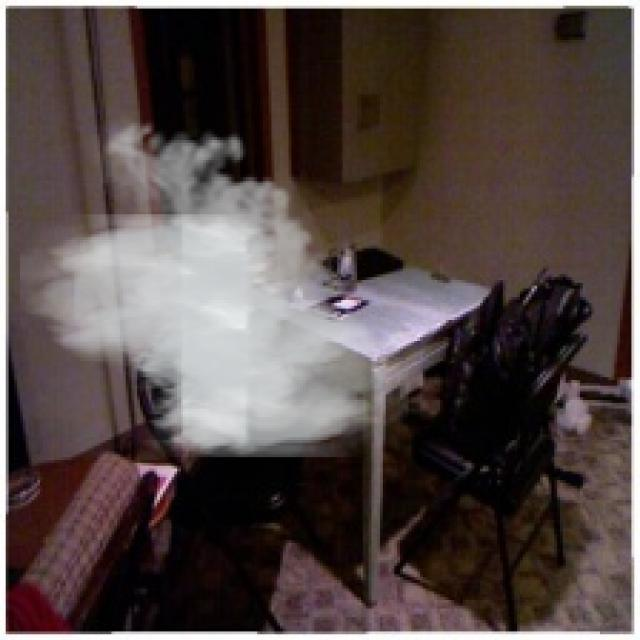Smoke: (20, 112, 409, 457)
